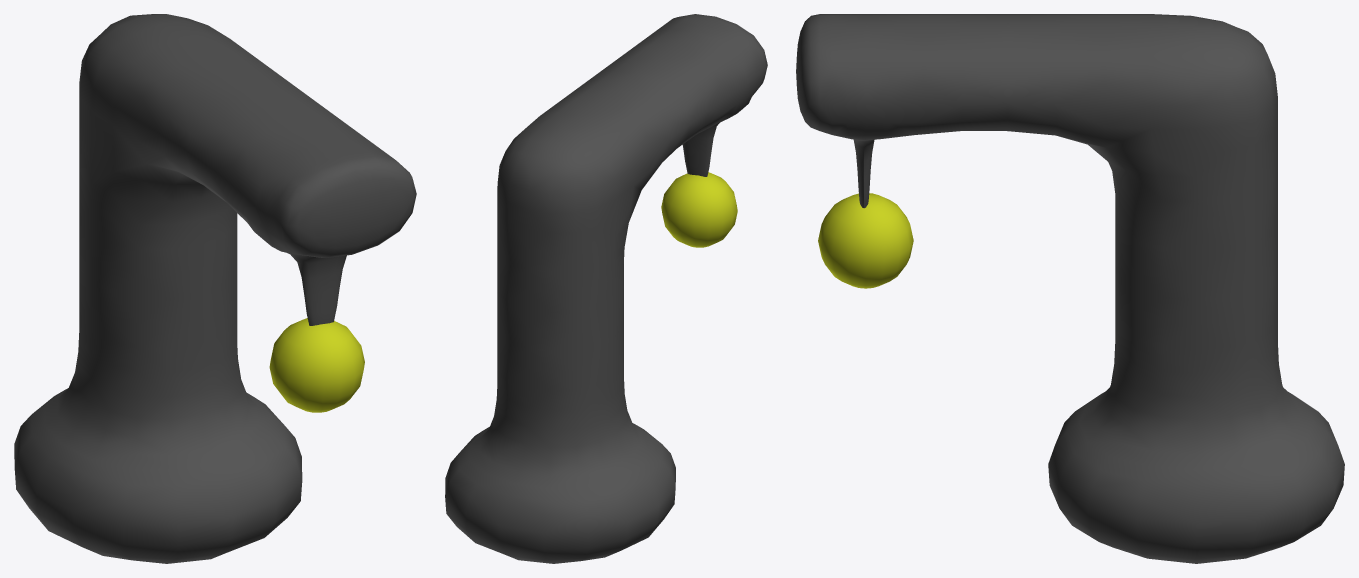
The model's file is Lights 3.fbx.
3 renders of one model, left to right at view 1: azimuth 30°, elevation 25°; view 2: azimuth 150°, elevation 25°; view 3: azimuth 270°, elevation 25°, orthographic. The views are drawn at different scales.
Visible parts, largest first — view 1: Cube, Sphere; view 2: Cube, Sphere; view 3: Cube, Sphere.
Boxes of the visible parts, bbox=[...] form: Cube: bbox=[14, 14, 416, 563]; Sphere: bbox=[269, 318, 364, 412]; Cube: bbox=[445, 14, 767, 563]; Sphere: bbox=[661, 172, 737, 247]; Cube: bbox=[796, 14, 1344, 563]; Sphere: bbox=[818, 193, 913, 288].
Bounding box in the file's own units: 104 × 208 × 203.
